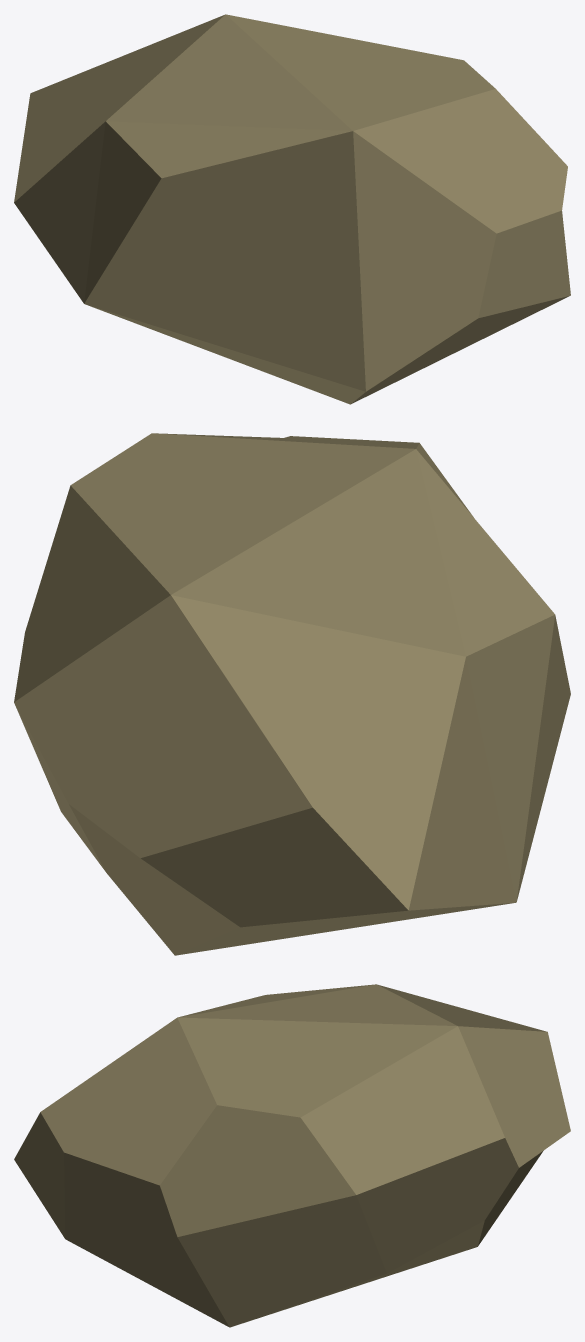
Rendered from Камень 1.fbx.
3 renders of one model, top to bottom at view 1: azimuth 30°, elevation 25°; view 2: azimuth 150°, elevation 25°; view 3: azimuth 270°, elevation 25°, orthographic. The views are drawn at different scales.
Parts seen in each view (by area): view 1: Icosphere.004; view 2: Icosphere.004; view 3: Icosphere.004.
Boxes of the visible parts, left/top/right/bottom form: Icosphere.004: left=14, top=14, right=570, bottom=404; Icosphere.004: left=14, top=433, right=570, bottom=955; Icosphere.004: left=14, top=984, right=570, bottom=1327.
Size of the model in its own units: 204 by 136 by 279.
